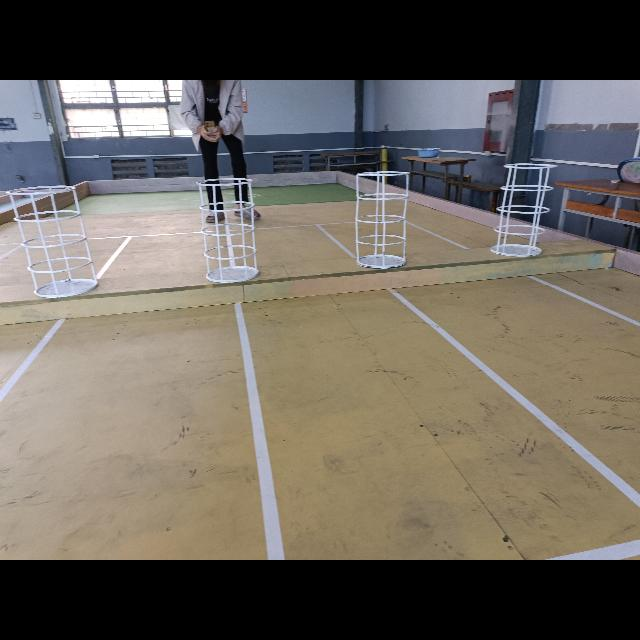S: (4, 182, 105, 301), (194, 176, 263, 283), (491, 161, 564, 259), (349, 169, 417, 273)
